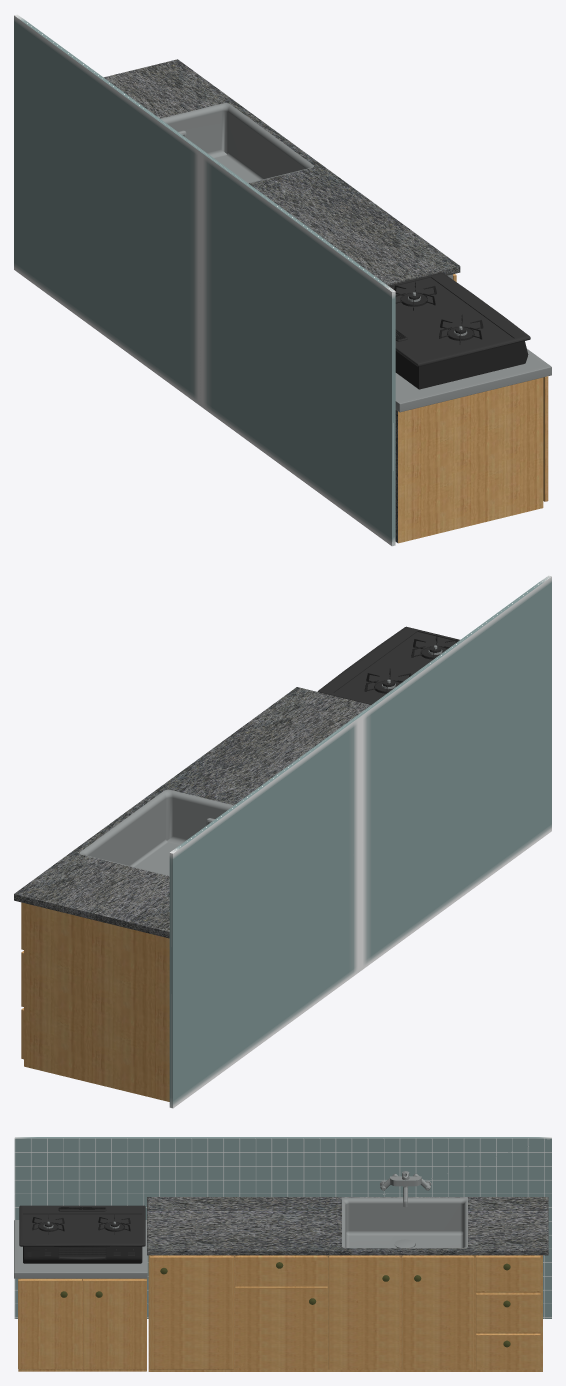
Rendered from kitchen001.fbx.
The picture shows the model from 3 angles, top to bottom: view 1: azimuth 30°, elevation 25°; view 2: azimuth 150°, elevation 25°; view 3: azimuth 270°, elevation 25°; orthographic projection. The views are drawn at different scales.
Visible parts, largest first — view 1: wall, UnderStove, sink, Stove; view 2: wall, sink, Stove; view 3: sink, wall, UnderStove, Stove, Faucet.
Part boxes in pixels (left/top/right/bottom): wall: left=14, top=14, right=395, bottom=546; UnderStove: left=395, top=349, right=551, bottom=543; sink: left=104, top=59, right=460, bottom=285; Stove: left=388, top=272, right=530, bottom=389; wall: left=169, top=575, right=551, bottom=1108; sink: left=14, top=687, right=370, bottom=1101; Stove: left=317, top=626, right=459, bottom=704; sink: left=147, top=1197, right=548, bottom=1371; wall: left=14, top=1137, right=551, bottom=1318; UnderStove: left=14, top=1220, right=147, bottom=1371; Stove: left=19, top=1205, right=145, bottom=1263; Faucet: left=380, top=1173, right=431, bottom=1190.
Size of the model in its own units: 0.0453 by 0.0671 by 0.1804.
Materials: 11 (5 with a texture image).
